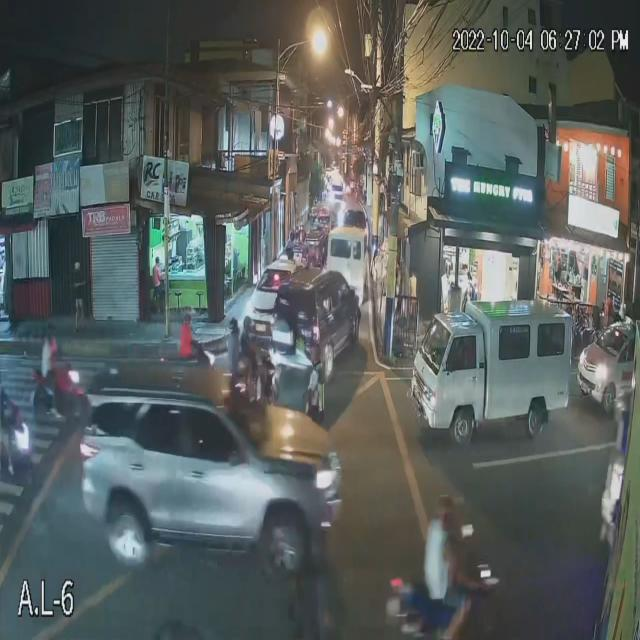Full-Faced: (40, 319, 60, 344), (228, 312, 242, 335), (241, 314, 255, 335)
Not-Wearing-Helmet: (434, 490, 461, 537)
